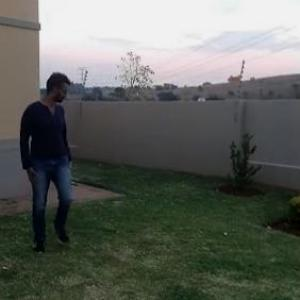follow: (16, 68, 79, 253)
